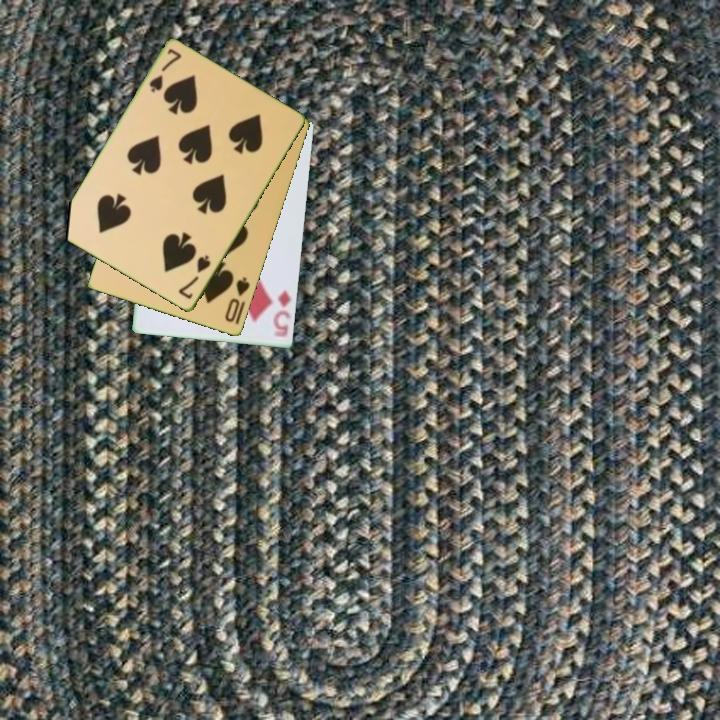10s: (221, 274, 253, 326)
5d: (270, 287, 294, 341)
7s: (175, 252, 214, 302), (146, 45, 184, 96)
